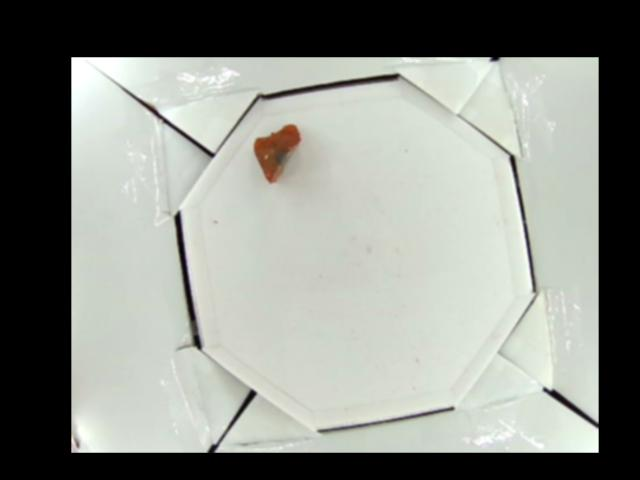Brisk: (252, 124, 301, 181)
